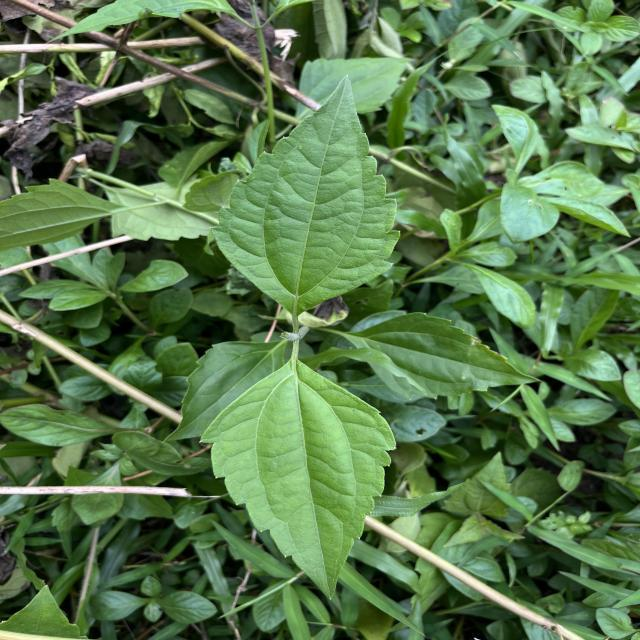Chromolaena odorata: (195, 352, 401, 602), (207, 70, 406, 316)
